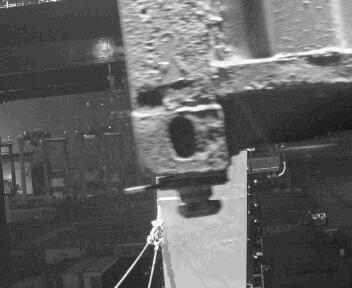twist_lock_1: (172, 167, 259, 222)
